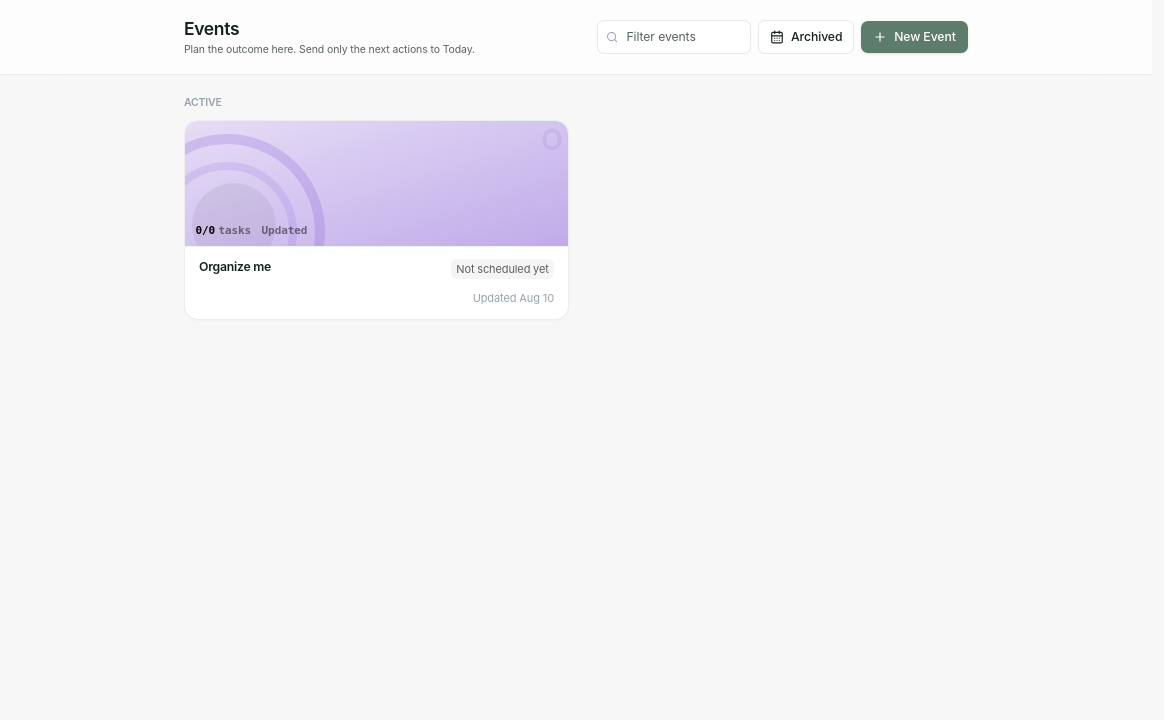
Test: EventsView canvas undo/redo + ⌘F (UX_DESIGN §4.3) › ⌘F opens the in-canvas node search
The image size is (1164, 720).
Click the button with test id "event-card-event-1".
click(376, 220)  # box [184,120,569,320]
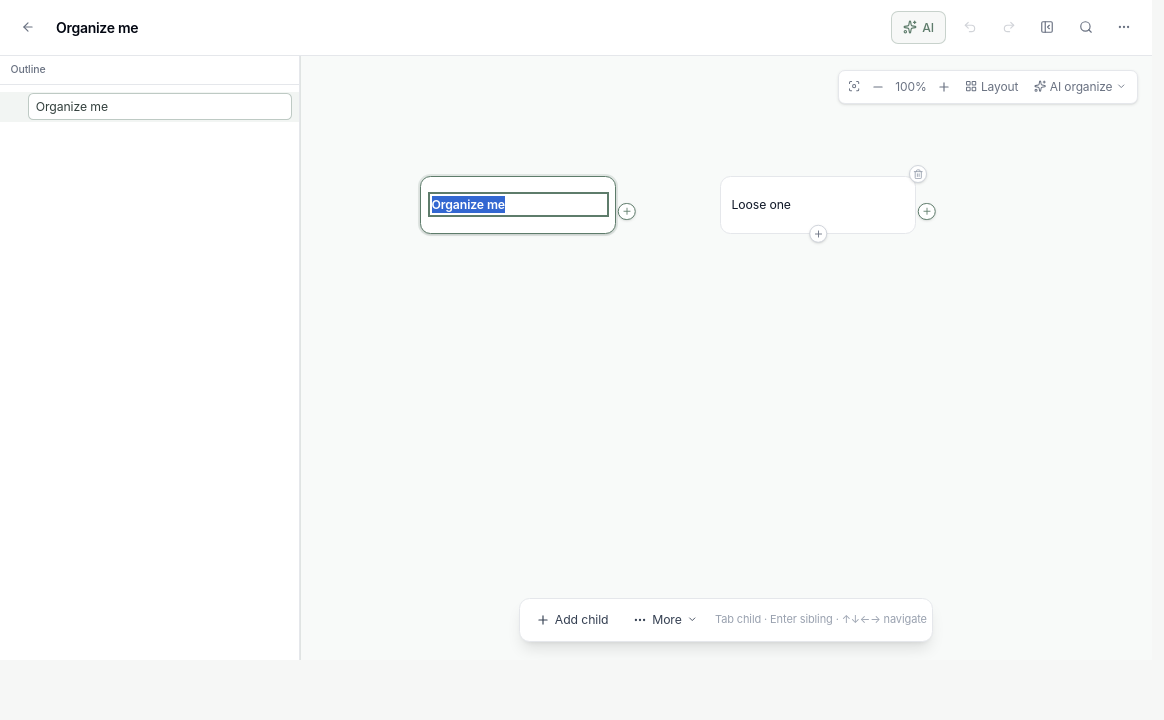
Expected: the element with test id "event-detail" is shown
Press f
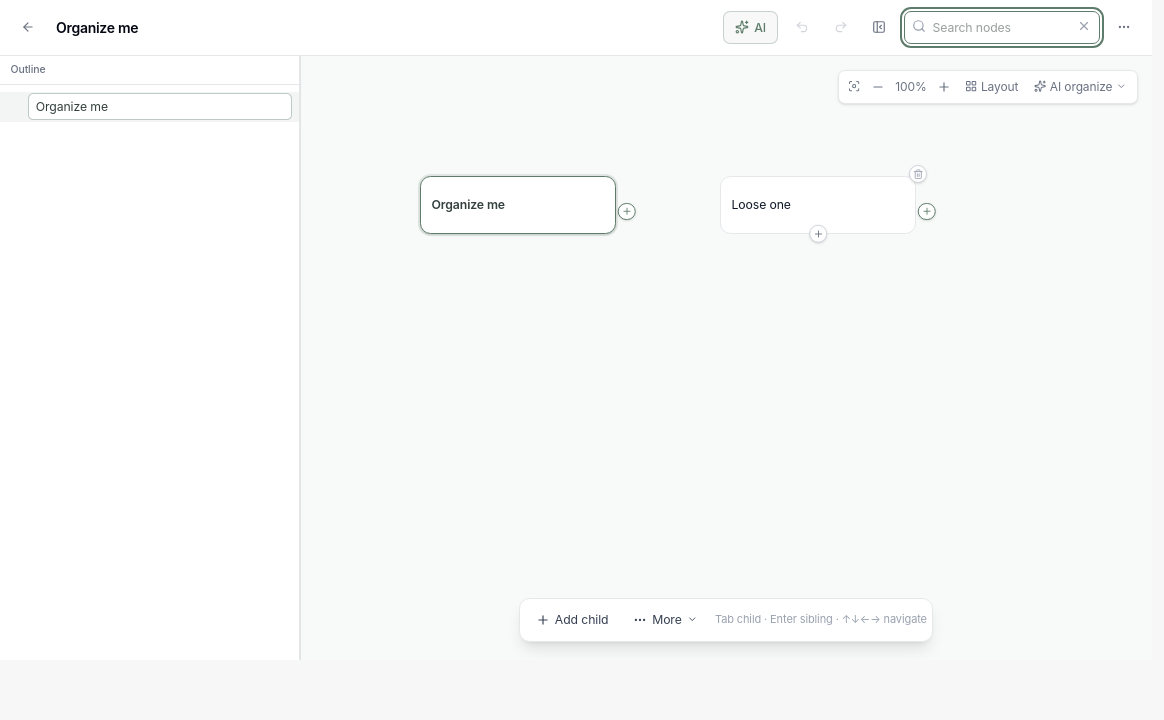
Expected: the field with placeholder "Search nodes" is shown, [904,10,1100,44]
